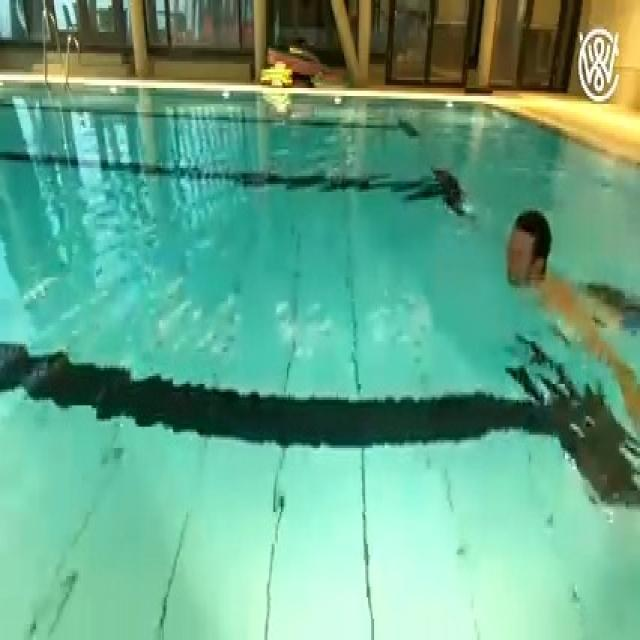Swimming: (489, 196, 640, 434)
